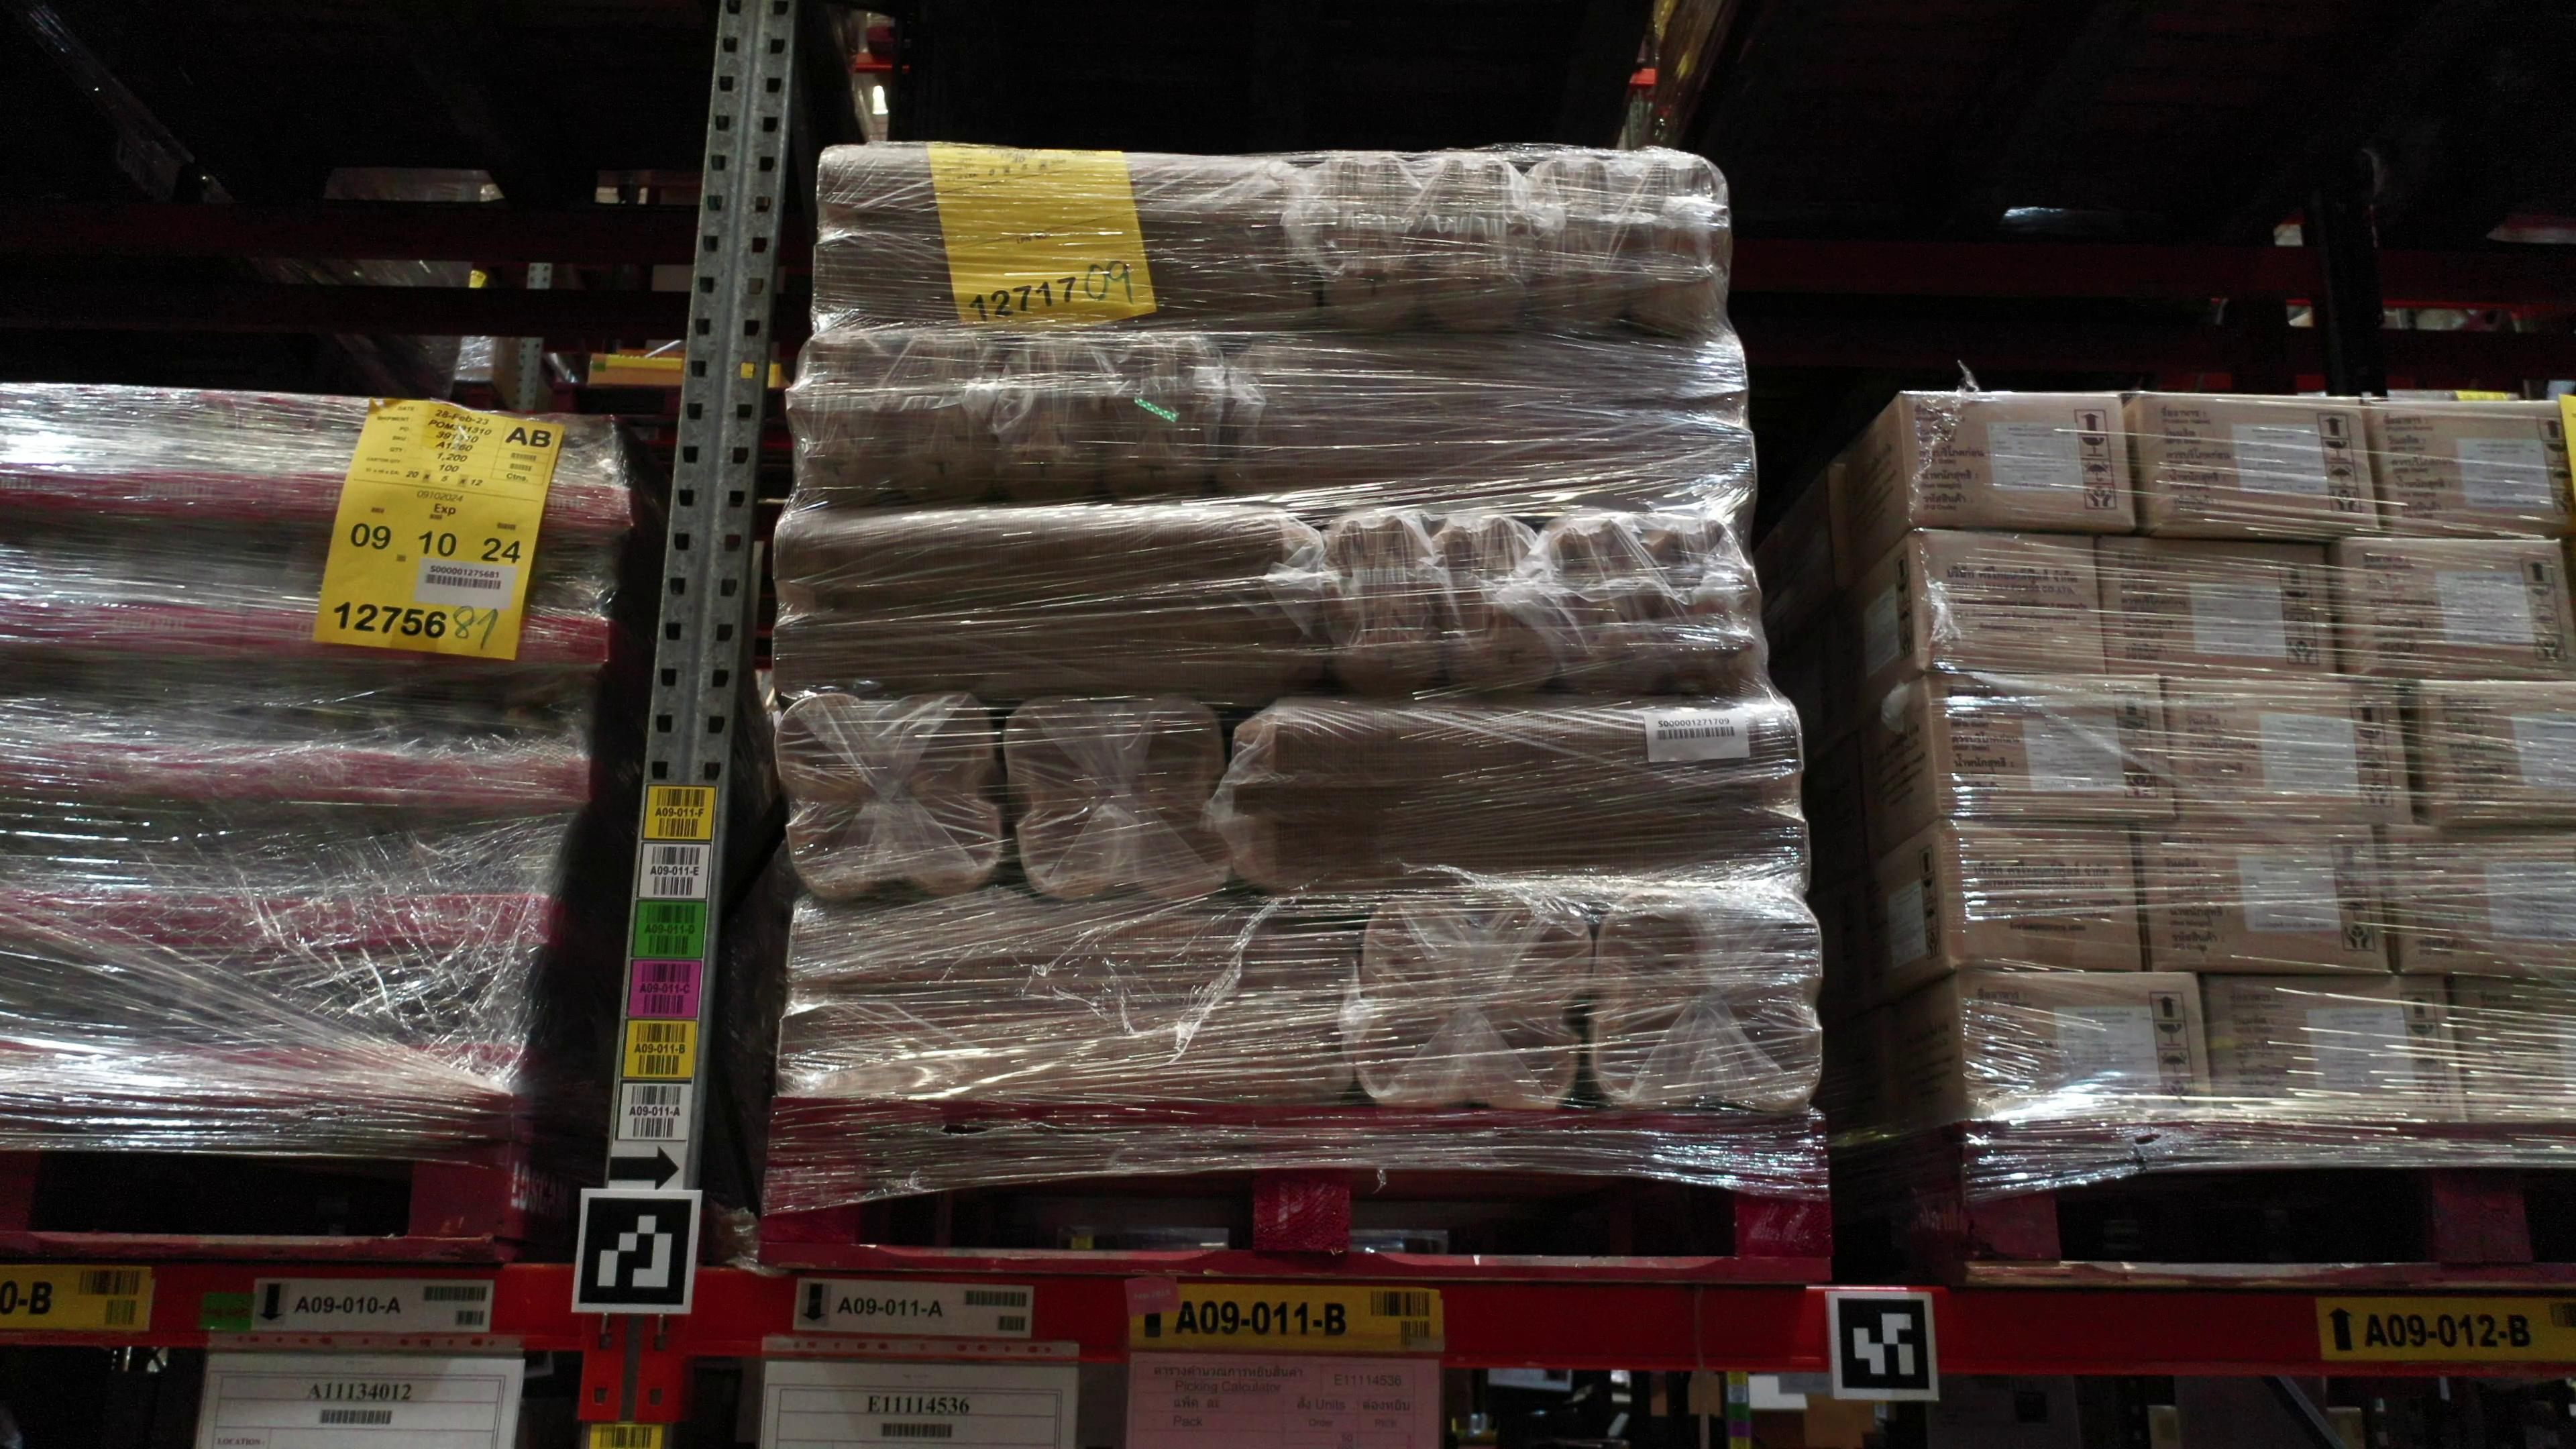-: (1212, 697, 1815, 897), (778, 897, 1364, 1100), (771, 497, 1345, 702), (1231, 333, 1762, 520), (814, 145, 1338, 324), (1591, 897, 1833, 1111), (1357, 897, 1594, 1113), (770, 694, 1007, 904), (993, 697, 1230, 904), (1323, 502, 1552, 704), (1302, 145, 1525, 340), (1950, 966, 2219, 1127), (1541, 511, 1762, 701), (1520, 154, 1736, 341), (998, 329, 1235, 499), (1925, 667, 2180, 824), (2160, 676, 2420, 830), (2203, 973, 2473, 1120), (2134, 819, 2388, 973), (780, 327, 1003, 501), (2134, 389, 2381, 540), (2339, 531, 2576, 686), (2095, 534, 2339, 681), (1898, 389, 2141, 533), (168, 812, 400, 957), (133, 957, 370, 1099), (0, 803, 209, 959), (1907, 524, 2107, 685), (1937, 816, 2143, 971), (209, 662, 421, 810), (2381, 821, 2576, 980), (2367, 396, 2576, 543), (32, 658, 235, 805), (372, 812, 577, 955), (409, 536, 616, 676), (338, 957, 540, 1099), (400, 669, 594, 810), (60, 525, 262, 662), (235, 527, 430, 667), (264, 398, 455, 540), (430, 409, 633, 541), (104, 389, 287, 524), (2410, 679, 2576, 824), (0, 959, 168, 1095), (0, 382, 134, 520), (2449, 973, 2576, 1118), (0, 520, 101, 653)
